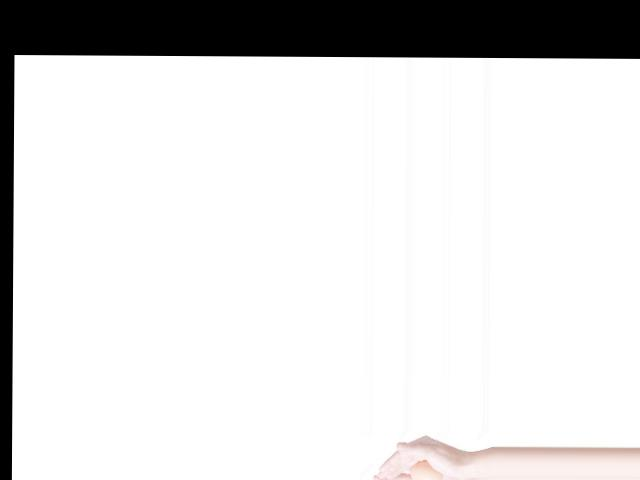egg: (410, 460, 440, 480)
